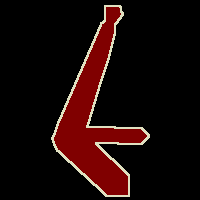tie: (52, 6, 149, 196)
